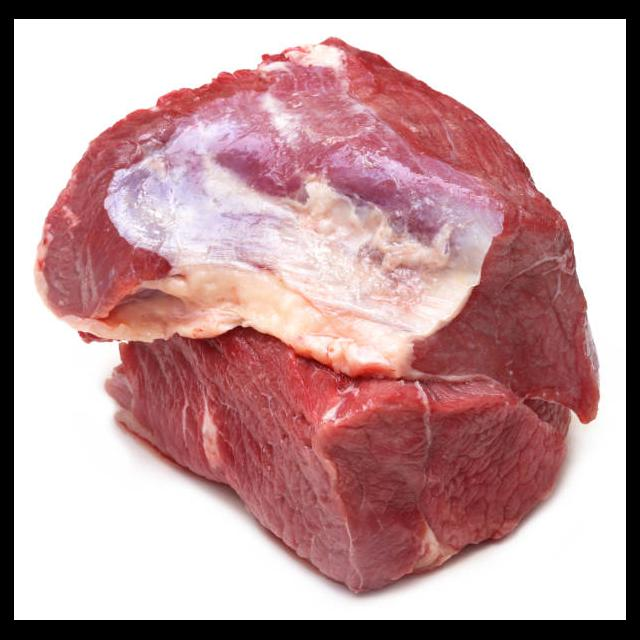beef: (33, 36, 600, 594)
